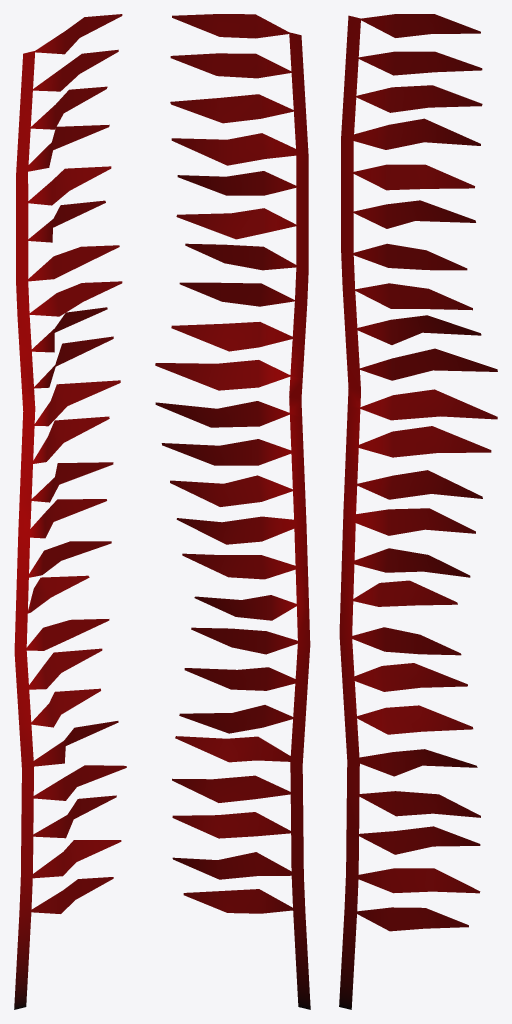
The model's file is Kelp_02_v01a.fbx.
3 views of the same model, side by side, from view 1: azimuth 30°, elevation 25°; view 2: azimuth 150°, elevation 25°; view 3: azimuth 330°, elevation 25° (orthographic). The views are drawn at different scales.
Visible parts, largest first — view 1: Kelp_02_Geo; view 2: Kelp_02_Geo; view 3: Kelp_02_Geo.
Boxes of the visible parts, x1,y1,x2,y2 form: Kelp_02_Geo: (14,14,126,1009); Kelp_02_Geo: (155,14,310,1009); Kelp_02_Geo: (339,14,497,1009).
Size of the model in its own units: 1.98 by 14.16 by 0.706.
